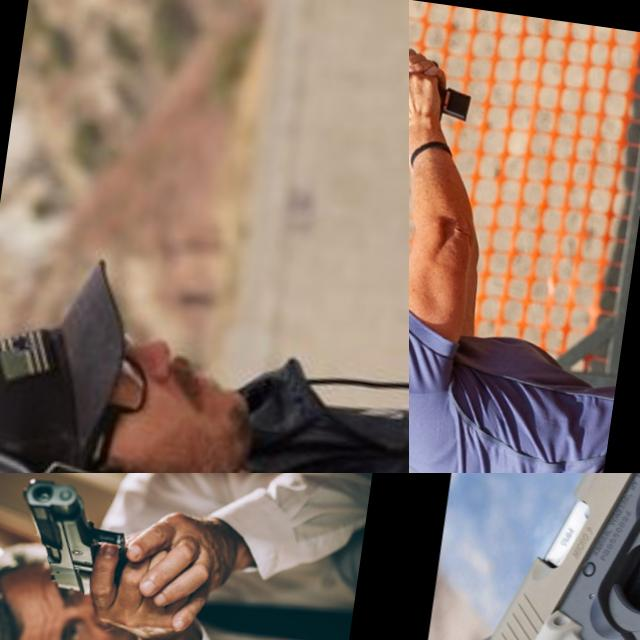handgun: (442, 473, 640, 640), (5, 473, 140, 602), (409, 0, 488, 148)
